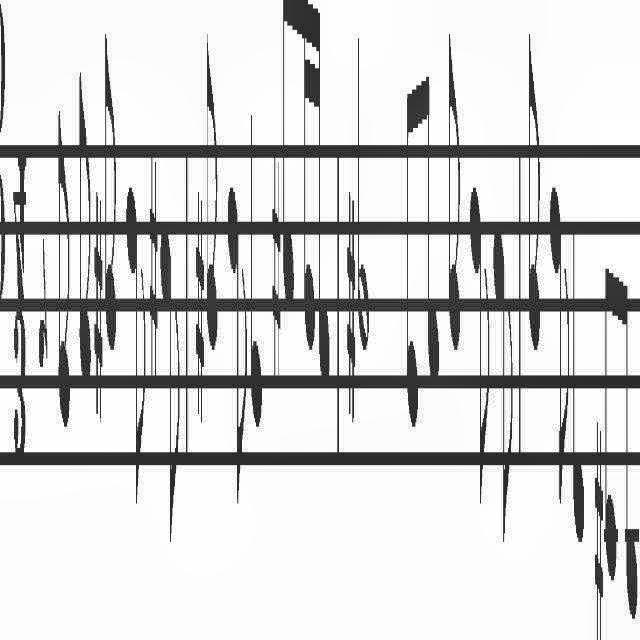Diez: (192, 171, 204, 463), (148, 120, 158, 450), (92, 188, 104, 452), (344, 188, 356, 452), (270, 145, 282, 395), (594, 418, 604, 640)
Eighth-note: (546, 166, 570, 516), (225, 166, 248, 530), (469, 169, 491, 539), (125, 154, 146, 530), (492, 213, 514, 565), (159, 218, 181, 562), (620, 273, 640, 619), (54, 98, 72, 466), (423, 48, 441, 416), (525, 6, 543, 374), (444, 1, 462, 360), (402, 59, 418, 455), (204, 28, 220, 372), (603, 250, 619, 582), (77, 66, 91, 414), (104, 0, 116, 376), (281, 0, 294, 332)
Eighth-rest: (38, 226, 50, 402)
Half-note: (356, 1, 372, 363)
Quarter-note: (570, 197, 586, 575), (248, 76, 264, 452)
Sixteenth-note: (316, 0, 332, 418), (300, 0, 316, 368)
